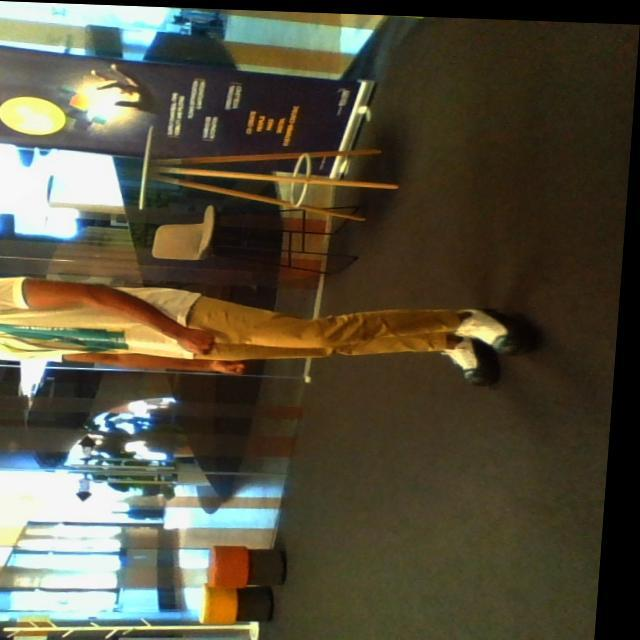shoes: (454, 304, 532, 360), (436, 331, 499, 386)
